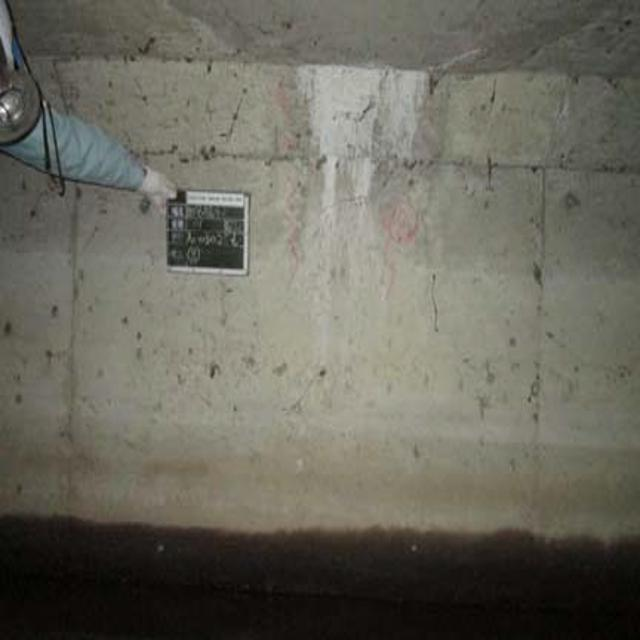freelime: (294, 46, 436, 207)
